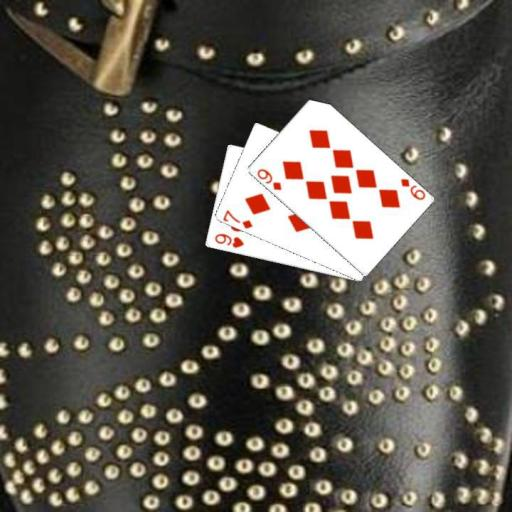7D: (220, 207, 254, 230)
9D: (397, 175, 427, 202), (253, 166, 283, 192)
9H: (212, 231, 246, 250)
